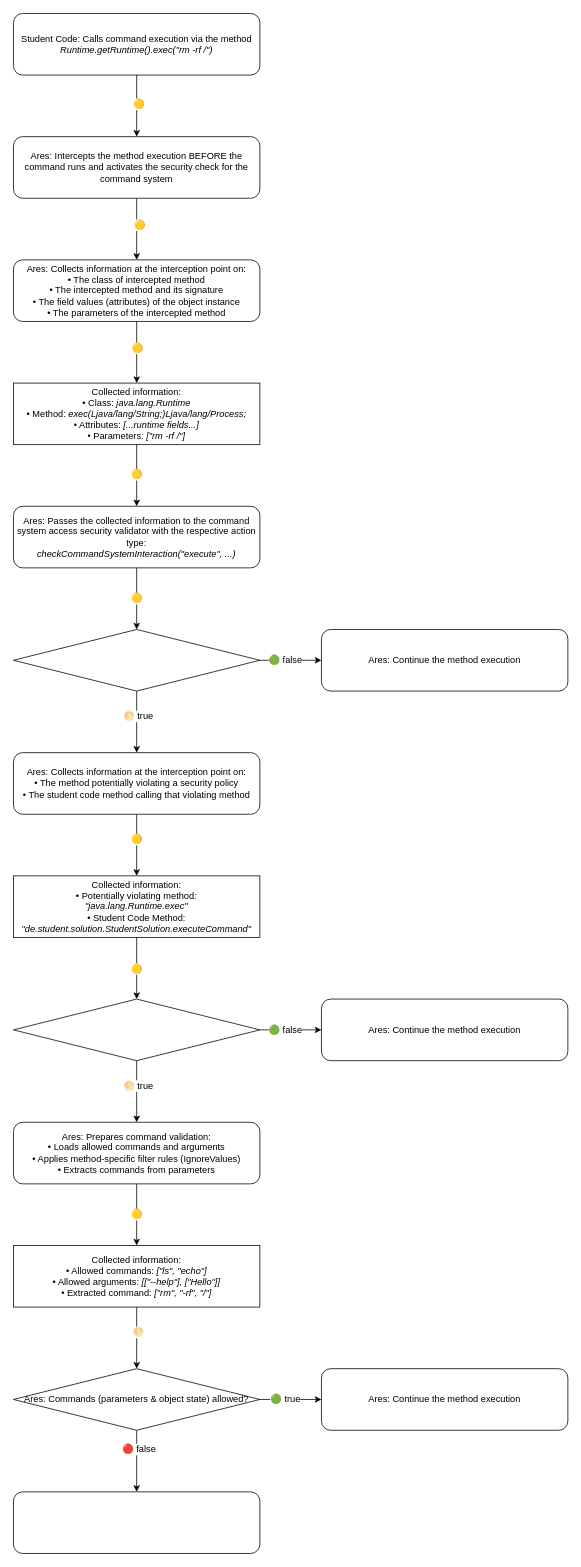
The diagram is 581 pixels wide and 1567 high, and some of its shapes have lost their labels. Here are the shapes that lost their labels. From the top down, the box of each, then its label:
(13, 629, 260, 691): Ares: Is the respective security enabled?
(13, 998, 260, 1061): Ares: Does the potentially violating method call come from the Student Code?
(13, 1491, 260, 1553): Ares: Block the method execution
